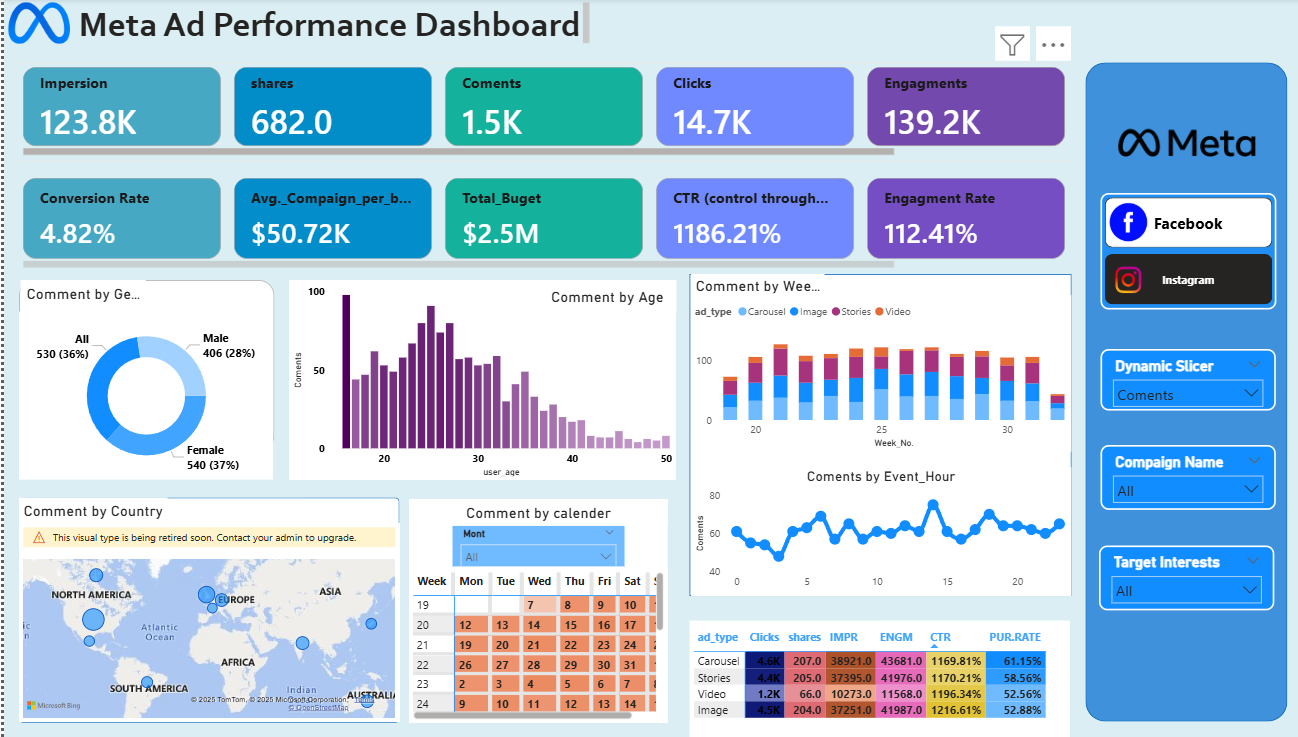

Layout of this report page (visuals, bound fields, positions):
{"tool":"powerbi","page":{"name":"Facebook","canvas":[1570,900],"ordinal":0},"visuals":[{"type":"textbox","box":[85,0,629.5,60.7],"z":0},{"type":"image","box":[0,0,85,60.7],"z":1000},{"type":"shape","box":[1311.6,78.9,244.9,799.5],"z":2000},{"type":"cardVisual","fields":{"Data":["All_Measures.Impersion","All_Measures.shares","All_Measures.Coments","All_Measures.Clicks","All_Measures.Engagments","All_Measures.Purchases"]},"box":[18.2,78.9,1277.2,119.4],"z":3000},{"type":"cardVisual","fields":{"Data":["All_Measures.Conversion Rate","All_Measures.Avg._Compaign_per_buget","All_Measures.Total_Buget","All_Measures.CTR (control through rate)","All_Measures.Engagment Rate","All_Measures.Purchase Rate"]},"box":[18.2,212.5,1277.2,121.4],"z":4000},{"type":"slicer","fields":{"Values":["Dynamic Slicer.Dynamic Slicer"]},"box":[1329.8,425.1,212.5,74.9],"z":5000},{"type":"shape","box":[18.2,342.1,309.7,206.4],"z":6000},{"type":"donutChart","title":"Purchases by gender","fields":{"Y":["All_Measures.Coments"],"Category":["ads.target_gender"]},"box":[18.5,380.1,308.3,204],"z":7000},{"type":"card","fields":{"Values":["All_Measures.Gender Title"]},"box":[20,342,152,34],"z":8000},{"type":"columnChart","fields":{"Y":["All_Measures.Coments"],"Category":["users.user_age"]},"box":[346.1,342.1,469.6,242.9],"z":9000},{"type":"card","fields":{"Values":["All_Measures.Age Title"]},"box":[648,342,168,40],"z":10000},{"type":"shape","box":[18.2,605.2,461.5,273.2],"z":11000},{"type":"map","fields":{"Size":["All_Measures.Coments"],"Category":["users.country"]},"box":[18.2,637.6,461.5,240.9],"z":12000},{"type":"card","fields":{"Values":["All_Measures.country Title"]},"box":[18,606,180,32],"z":13000},{"type":"pivotTable","fields":{"Columns":["Calender.Day"],"Values":["Min(Calender.Day_Number)"],"Rows":["Calender.Week_No."]},"box":[491.8,692.2,313.7,188.2],"z":14000},{"type":"shape","box":[491.8,607.2,313.7,85],"z":15000},{"type":"slicer","fields":{"Values":["Calender.Mont"]},"box":[544.5,637.6,208.5,52.6],"z":16000},{"type":"card","fields":{"Values":["All_Measures.calender Title"]},"box":[491.8,607.2,313.7,32.4],"z":17000},{"type":"shape","box":[831.9,334,463.5,390.6],"z":18000},{"type":"columnChart","fields":{"Y":["All_Measures.Coments"],"Series":["ads.ad_type"],"Category":["Calender.Week_No."]},"box":[833.9,360.3,461.5,190.3],"z":19000},{"type":"card","fields":{"Values":["All_Measures.Weekely Title"]},"box":[834,334,162,28],"z":20000},{"type":"lineChart","fields":{"Y":["All_Measures.Coments"],"Category":["ad_events.Event_Hour"]},"box":[833.9,568.8,461.5,155.8],"z":21000},{"type":"pivotTable","fields":{"Rows":["ads.ad_type"],"Values":["All_Measures.Clicks","All_Measures.shares","All_Measures.Impersion","All_Measures.Engagments","All_Measures.CTR (control through rate)","All_Measures.Purchase Rate"]},"box":[831.9,755,461.5,145.7],"z":22000},{"type":"image","box":[1299.4,78.9,271.2,194.3],"z":23000},{"type":"slicer","fields":{"Values":["campaigns.name"]},"box":[1329.8,542.4,212.5,78.9],"z":24000},{"type":"slicer","fields":{"Values":["ads.target_interests"]},"box":[1327.8,663.9,212.5,78.9],"z":25000},{"type":"pageNavigator","box":[1330.5,236.4,213.2,141.4],"z":26000},{"type":"image","box":[1342.8,316.6,41.9,50.9],"z":27000},{"type":"image","box":[1335.5,236.5,56.4,71],"z":28000}]}

Visuals, with their boxes in screenshot pixels (x1, y1, x2, y2), scaled from the page's 1570x900 canvas onto the 1298x737 screenshot:
textbox: BBox(70, 0, 591, 50)
image: BBox(0, 0, 70, 50)
shape: BBox(1084, 65, 1287, 719)
cardVisual - All_Measures.Impersion x All_Measures.shares: BBox(15, 65, 1071, 162)
cardVisual - All_Measures.Conversion Rate x All_Measures.Avg._Compaign_per_buget: BBox(15, 174, 1071, 273)
slicer - Dynamic Slicer.Dynamic Slicer: BBox(1099, 348, 1275, 409)
shape: BBox(15, 280, 271, 449)
"Purchases by gender" donutChart: BBox(15, 311, 270, 478)
card - All_Measures.Gender Title: BBox(17, 280, 142, 308)
columnChart - All_Measures.Coments x users.user_age: BBox(286, 280, 674, 479)
card - All_Measures.Age Title: BBox(536, 280, 675, 313)
shape: BBox(15, 496, 397, 719)
map - All_Measures.Coments x users.country: BBox(15, 522, 397, 719)
card - All_Measures.country Title: BBox(15, 496, 164, 522)
pivotTable - Calender.Day x Min(Calender.Day_Number): BBox(407, 567, 666, 721)
shape: BBox(407, 497, 666, 567)
slicer - Calender.Mont: BBox(450, 522, 623, 565)
card - All_Measures.calender Title: BBox(407, 497, 666, 524)
shape: BBox(688, 274, 1071, 593)
columnChart - All_Measures.Coments x ads.ad_type: BBox(689, 295, 1071, 451)
card - All_Measures.Weekely Title: BBox(690, 274, 823, 296)
lineChart - All_Measures.Coments x ad_events.Event_Hour: BBox(689, 466, 1071, 593)
pivotTable - ads.ad_type x All_Measures.Clicks: BBox(688, 618, 1069, 736)
image: BBox(1074, 65, 1297, 224)
slicer - campaigns.name: BBox(1099, 444, 1275, 509)
slicer - ads.target_interests: BBox(1098, 544, 1273, 608)
pageNavigator: BBox(1100, 194, 1276, 309)
image: BBox(1110, 259, 1145, 301)
image: BBox(1104, 194, 1151, 252)
